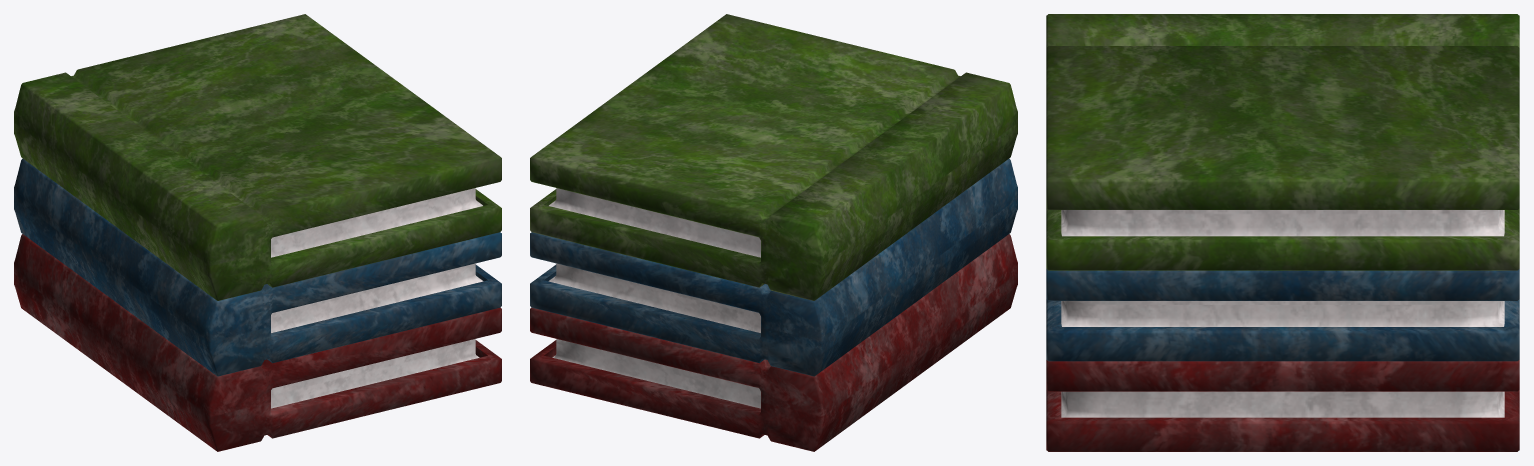
File: Stack of Books.fbx
3 views of the same model, side by side, from view 1: azimuth 30°, elevation 25°; view 2: azimuth 150°, elevation 25°; view 3: azimuth 270°, elevation 25° (orthographic). The views are drawn at different scales.
Parts seen in each view (by area): view 1: Stack of Books; view 2: Stack of Books; view 3: Stack of Books.
Part boxes in pixels (x1,y1,x2,y2): Stack of Books: (14, 14, 501, 451); Stack of Books: (530, 14, 1017, 451); Stack of Books: (1046, 14, 1519, 451).
Bounding box in the file's own units: 57.44 × 42.4 × 66.84.
1 material, 1 textured.
